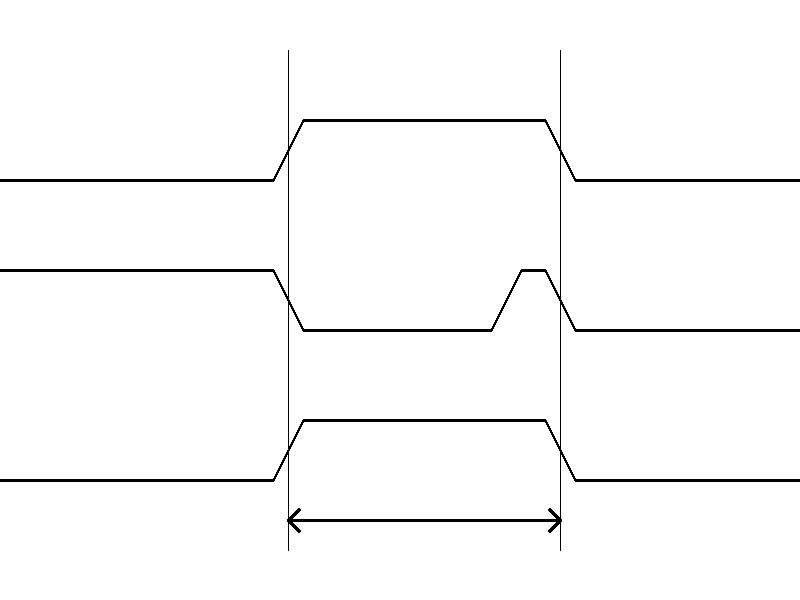double_arrow: (288, 505, 560, 535)
